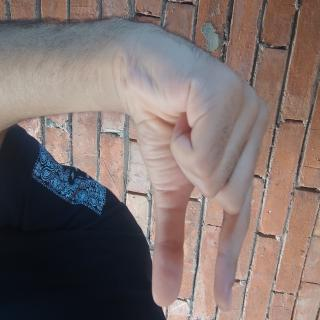DELL: (9, 58, 237, 290)
